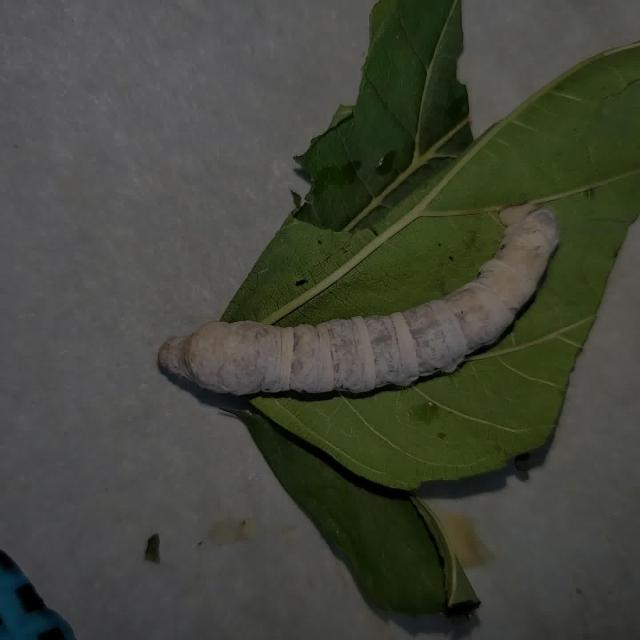Grasserie: (139, 183, 588, 454)
